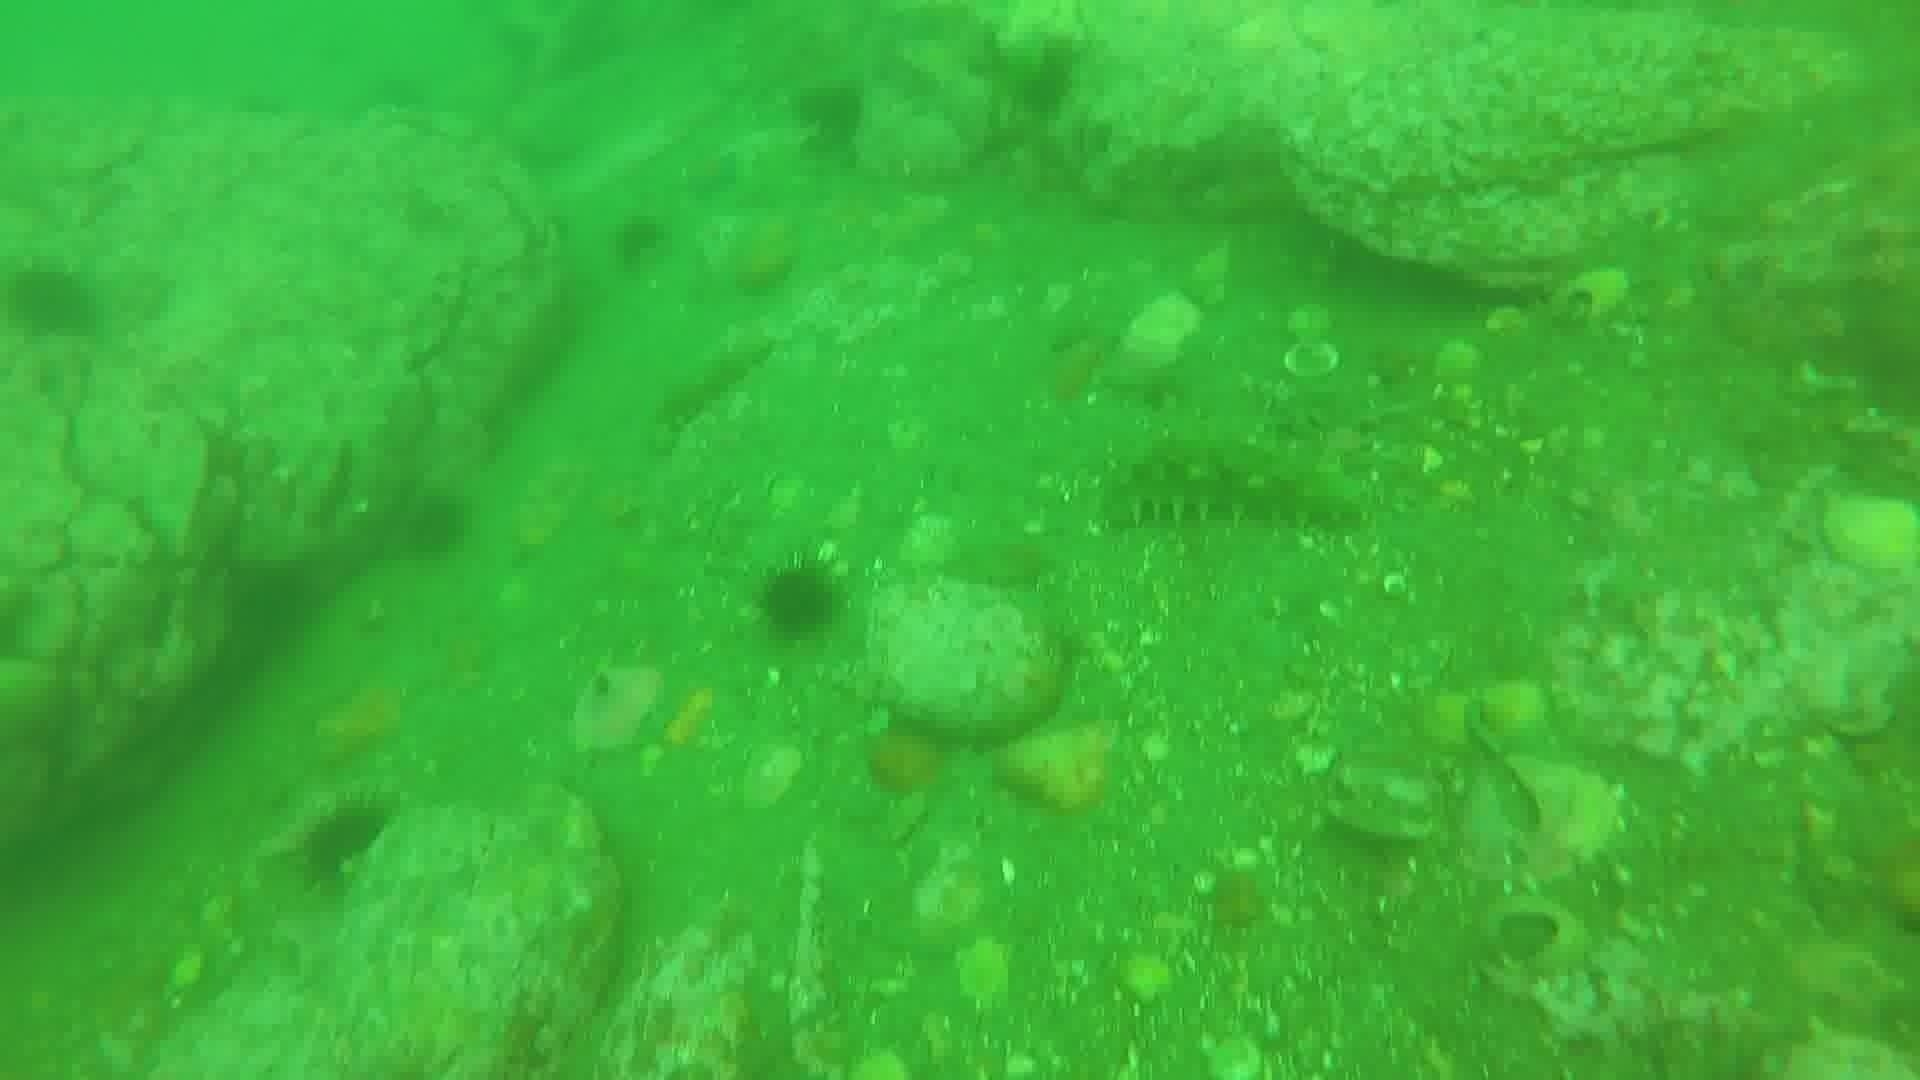echinus: (290, 793, 400, 895), (3, 258, 103, 345), (752, 556, 847, 645), (789, 76, 872, 154), (394, 484, 475, 563), (607, 210, 673, 276)
holothurian: (1096, 443, 1367, 539), (647, 328, 778, 448)
